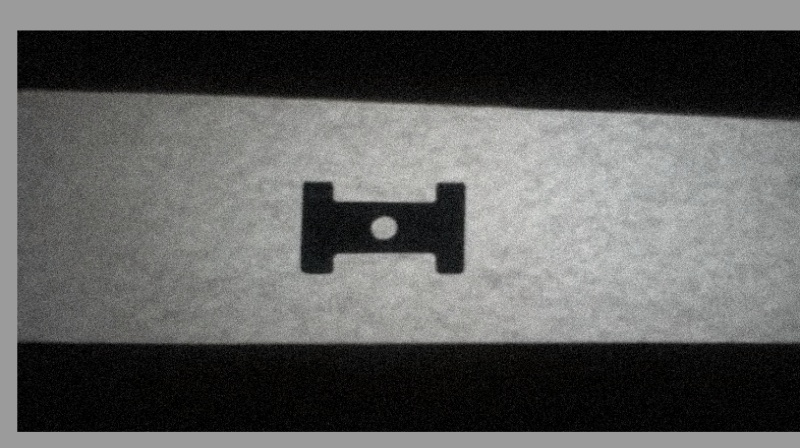O002: (295, 177, 471, 277)
